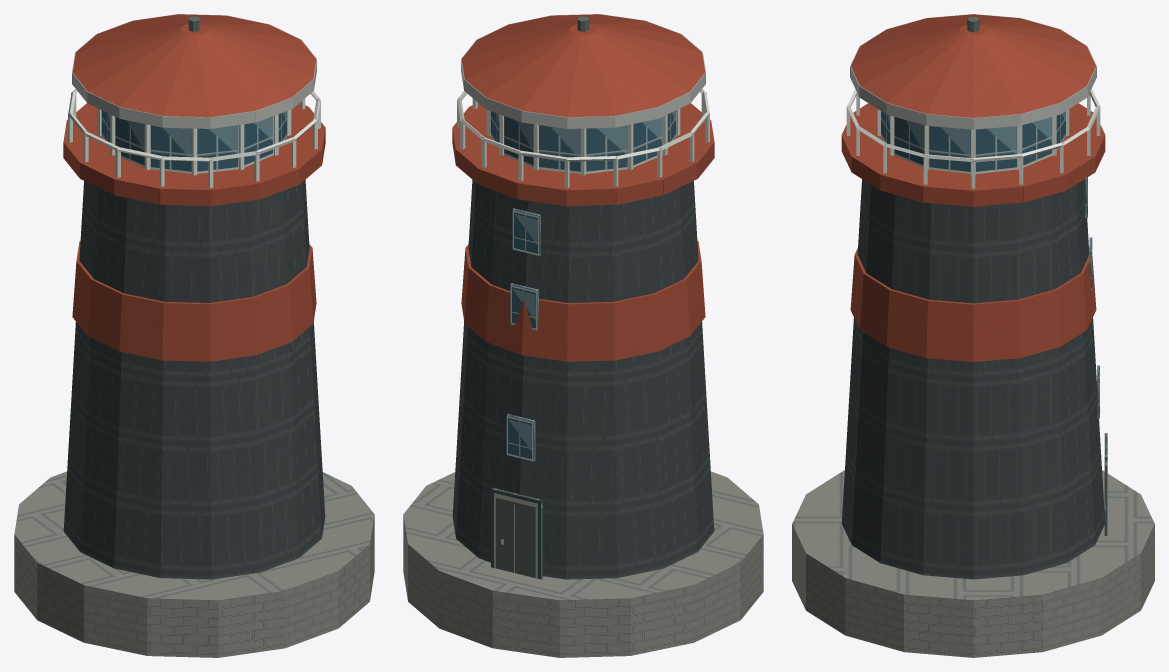
File: SM_QD_HarborLighthouse_L1.fbx
3 views of the same model, side by side, from view 1: azimuth 30°, elevation 25°; view 2: azimuth 150°, elevation 25°; view 3: azimuth 270°, elevation 25° (orthographic).
Visible parts, largest first — view 1: SM_QD_HarborLighthouse_L1; view 2: SM_QD_HarborLighthouse_L1; view 3: SM_QD_HarborLighthouse_L1.
Boxes of the visible parts, <box> form: SM_QD_HarborLighthouse_L1: <box>14,14,374,657</box>; SM_QD_HarborLighthouse_L1: <box>403,14,763,657</box>; SM_QD_HarborLighthouse_L1: <box>792,14,1154,657</box>.
Bounding box in the file's own units: 7.2 × 7.2 × 12.31.
Materials: 1 (1 with a texture image).
